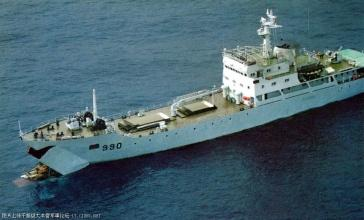warship: (16, 10, 364, 181)
